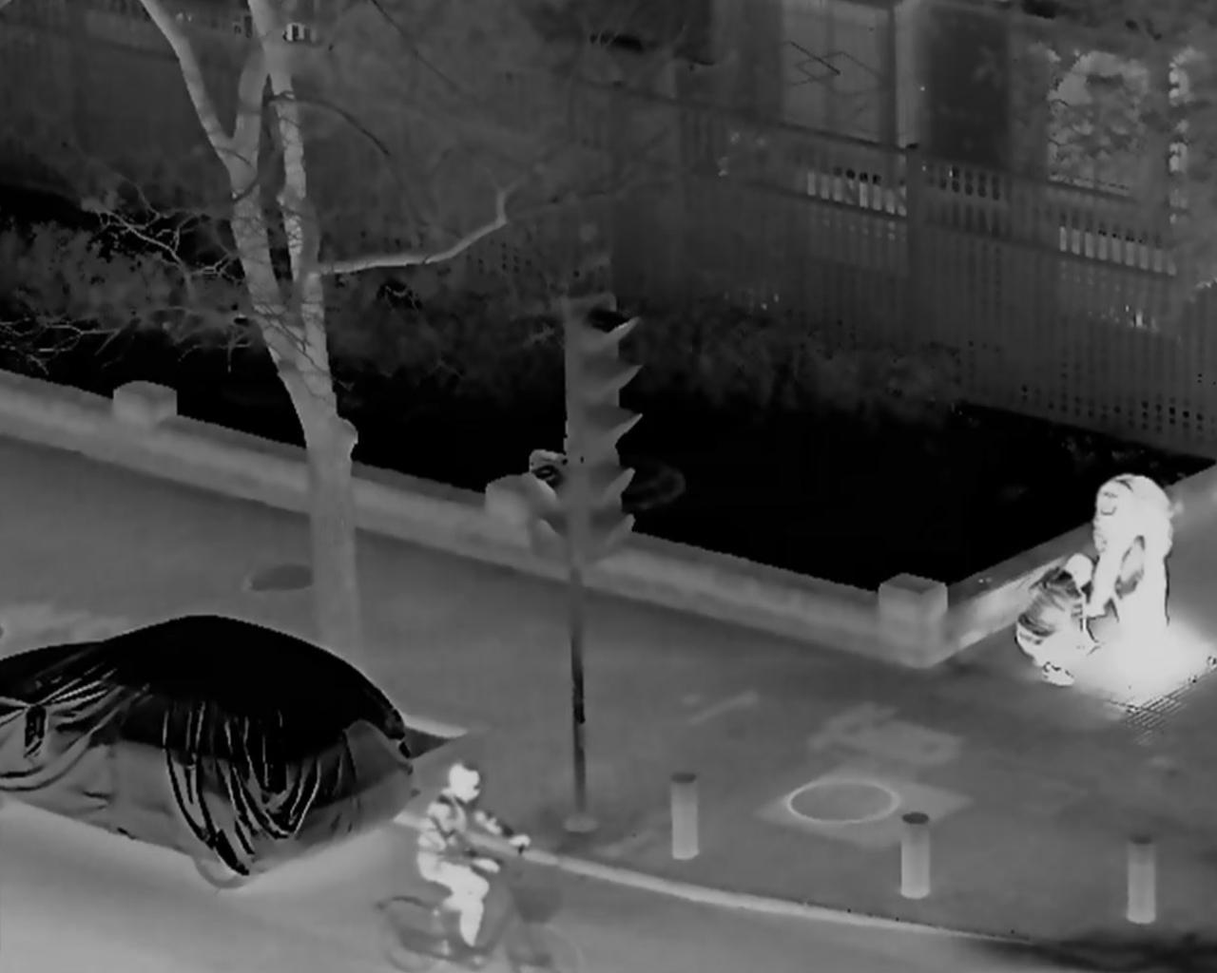person: (417, 763, 535, 951), (1088, 470, 1174, 647), (1016, 556, 1102, 689)
